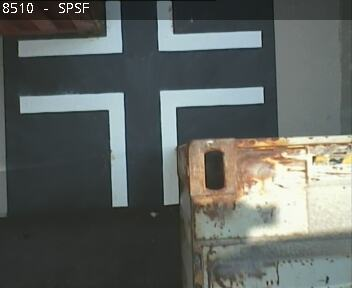groundmarker_1: (18, 83, 263, 206)
